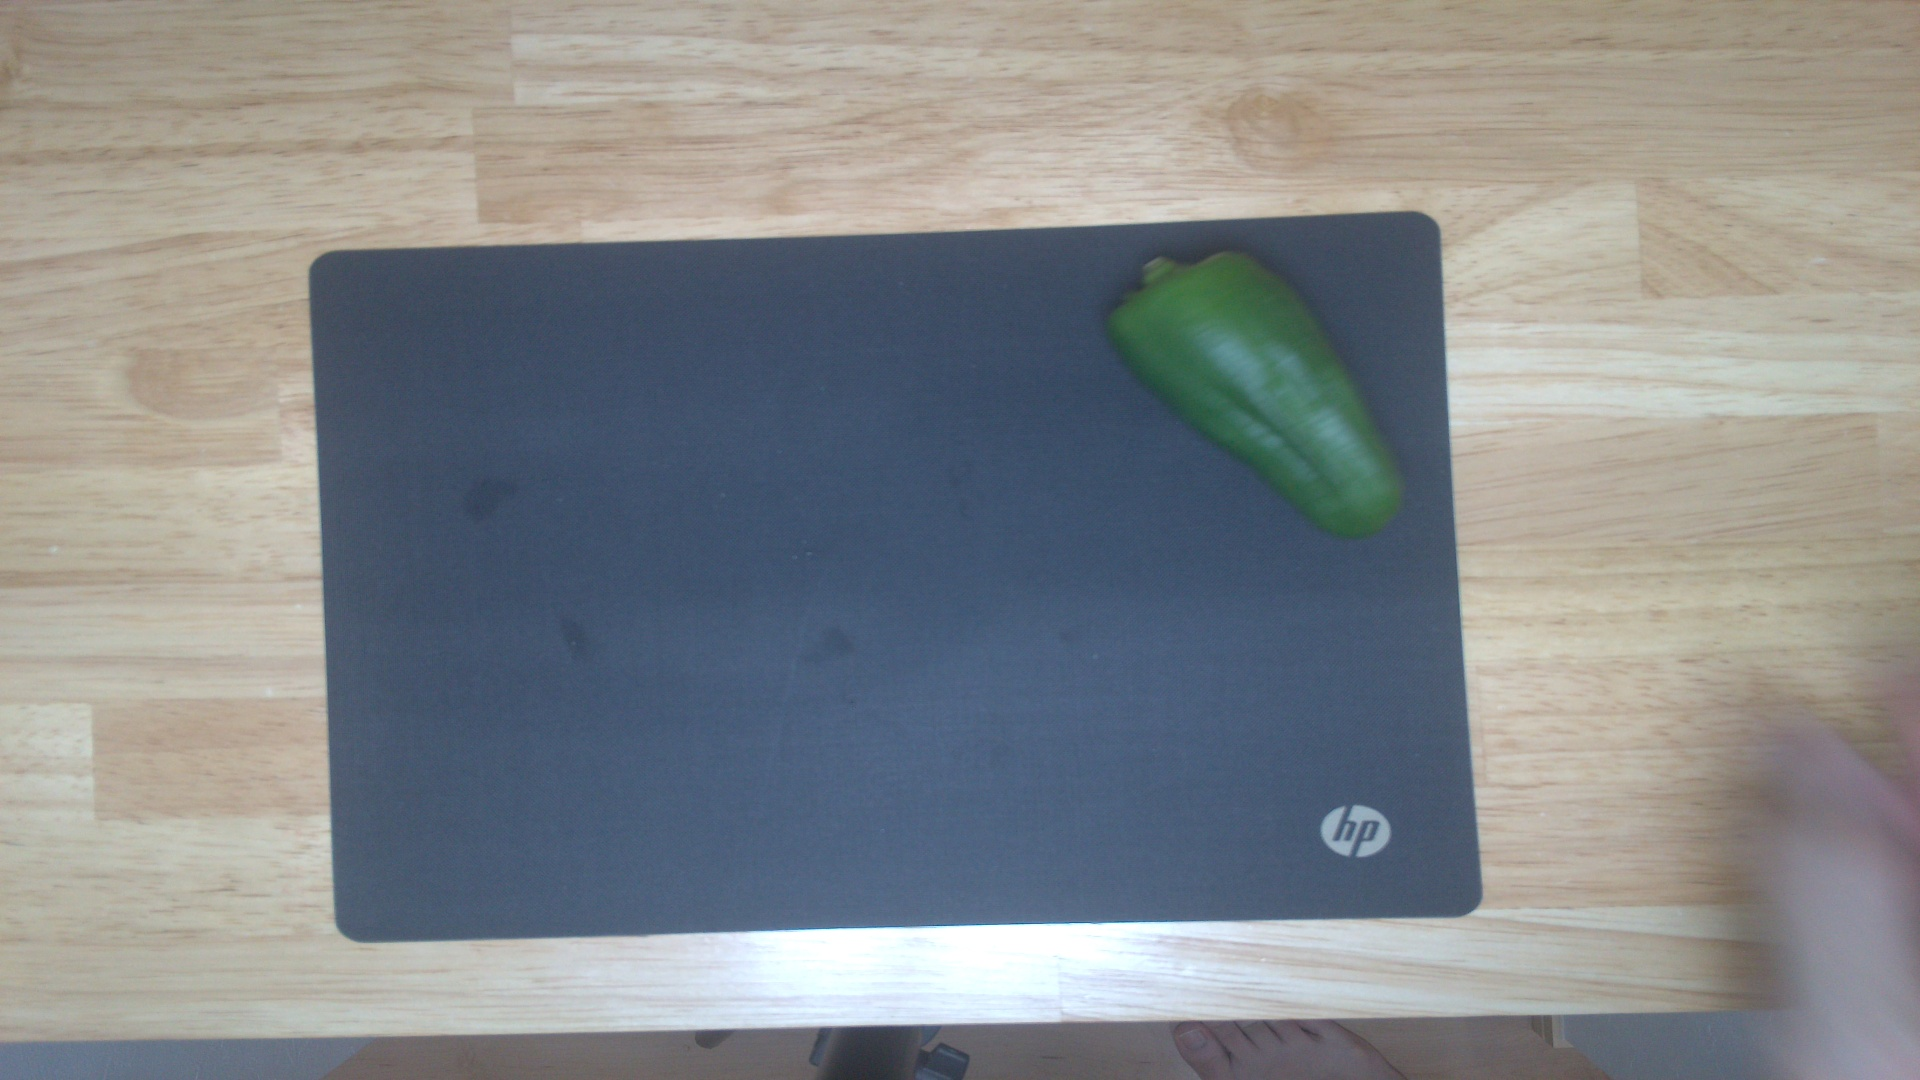Piman: (1102, 245, 1418, 531)
